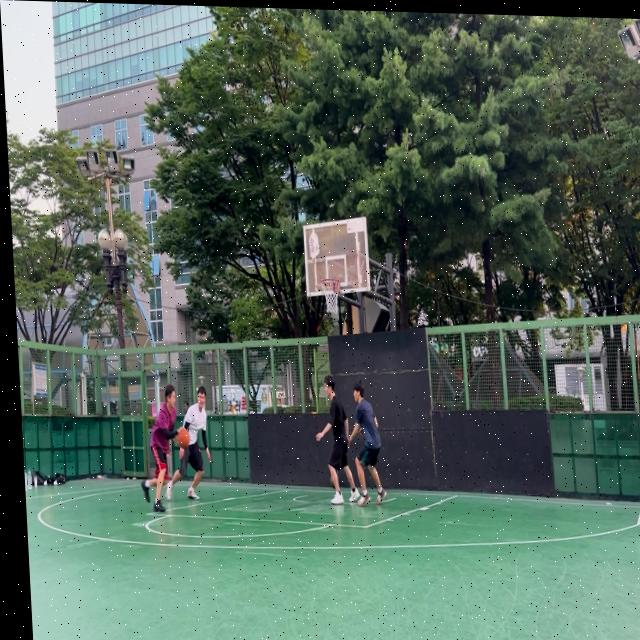basketball: (179, 428, 190, 449), (330, 473, 340, 489)
hoop: (320, 278, 342, 315)
